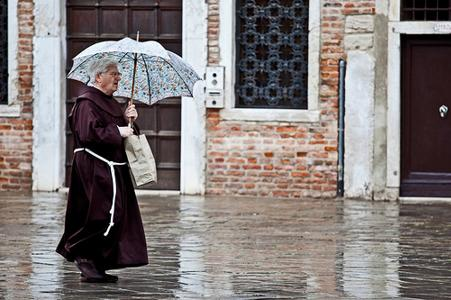person: (55, 59, 150, 283)
